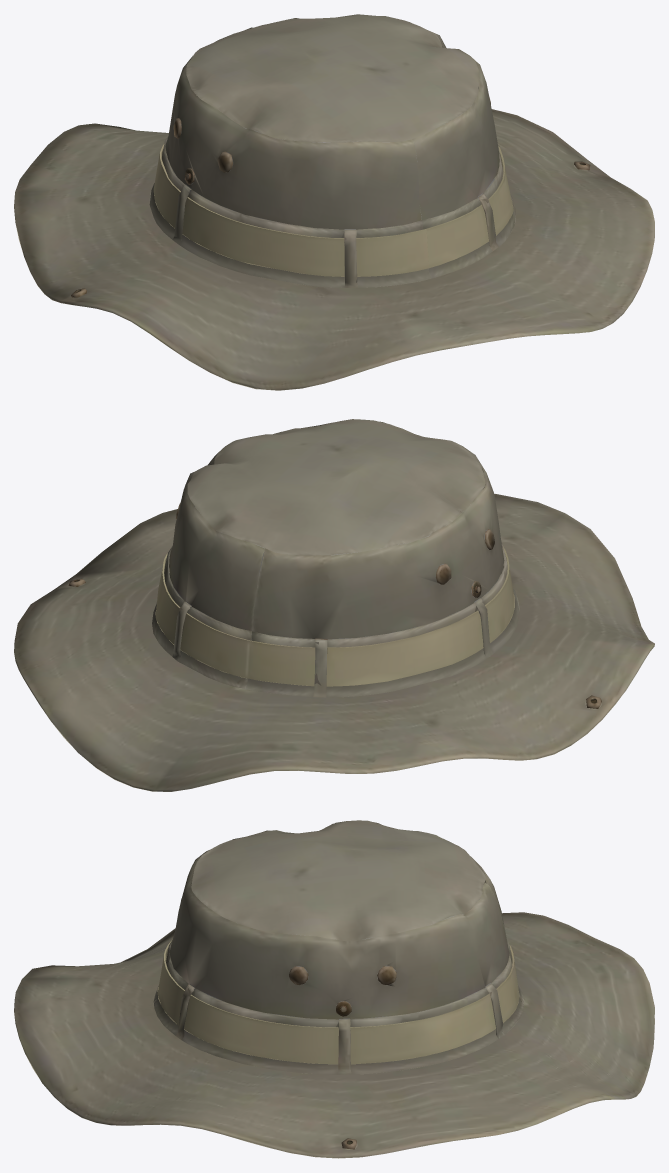
The model's file is fishermans_hat.glb.
The picture shows the model from 3 angles, top to bottom: view 1: azimuth 30°, elevation 25°; view 2: azimuth 150°, elevation 25°; view 3: azimuth 270°, elevation 25°; orthographic projection. The views are drawn at different scales.
Visible parts, largest first — view 1: fishermans_hat; view 2: fishermans_hat; view 3: fishermans_hat.
Boxes of the visible parts, bbox=[...] form: fishermans_hat: bbox=[14, 14, 654, 390]; fishermans_hat: bbox=[14, 419, 654, 791]; fishermans_hat: bbox=[14, 820, 654, 1158].
Size of the model in its own units: 0.3236 by 0.1243 by 0.3498.
Materials: 1 (1 with a texture image).
